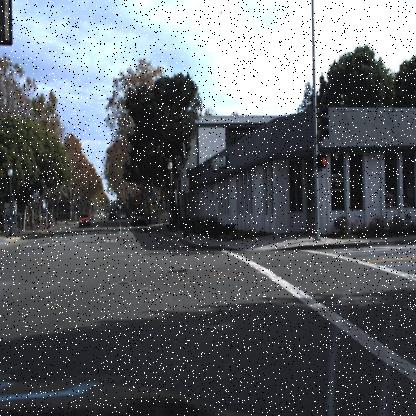car: (128, 206, 150, 227), (130, 206, 146, 226), (79, 213, 89, 228), (109, 208, 118, 221)
